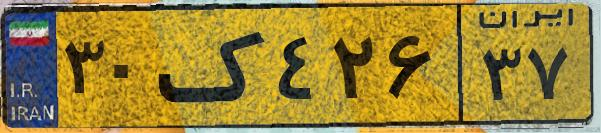0: (110, 28, 158, 98)
2: (330, 28, 385, 110)
3: (57, 26, 110, 100), (475, 38, 525, 113)
4: (270, 28, 330, 110)
6: (385, 28, 445, 110)
7: (525, 38, 570, 115)
ک: (158, 12, 270, 120)
